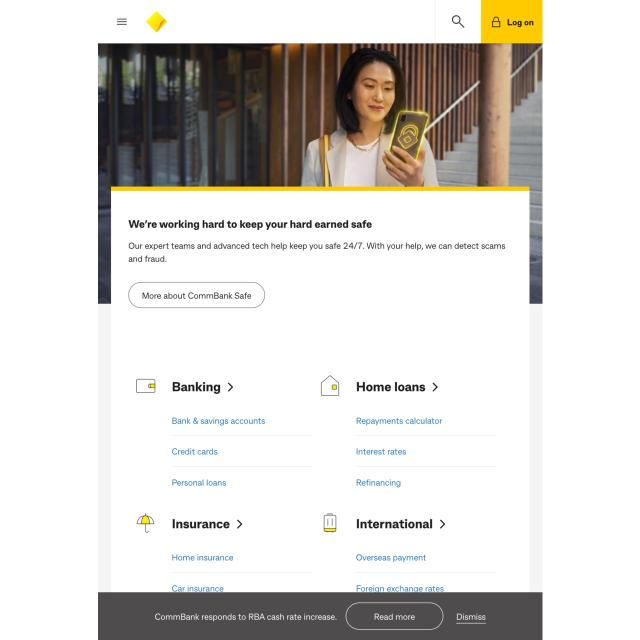logo: (145, 9, 169, 33)
navigation: (115, 15, 129, 28)
